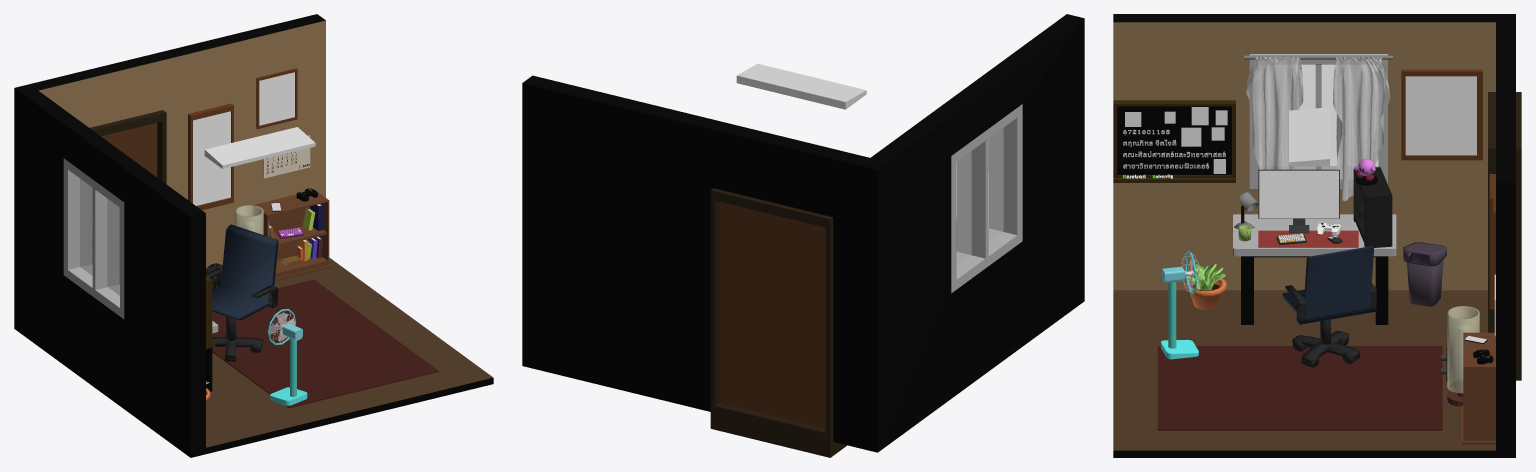
File: kutxt.glb
The picture shows the model from 3 angles, left to right: view 1: azimuth 30°, elevation 25°; view 2: azimuth 150°, elevation 25°; view 3: azimuth 270°, elevation 25°; orthographic projection. The views are drawn at different scales.
Visible parts, largest first — view 1: Cube.012, Plane.002, Cylinder, Cube.010, Plane.015, Cube.028, Plane.003, Cube.013, Plane.016, Torus.006, Cube.025, Cube.005 (+3 smaller); view 2: Cube.012, Cube.013, Plane.003, Cube.028; view 3: Cube.012, Plane.002, Cylinder.011, Cube.011, Cylinder, Plane.010, Cube.001, Plane.008, Cube.010, Cube.003, Cube.028, Cube.004 (+13 smaller).
Boxes of the visible parts, bbox=[...] form: Cube.012: bbox=[14, 14, 493, 457]; Plane.002: bbox=[212, 279, 438, 408]; Cylinder: bbox=[206, 224, 278, 361]; Cube.010: bbox=[253, 191, 331, 281]; Plane.015: bbox=[193, 111, 230, 205]; Cube.028: bbox=[204, 127, 315, 168]; Plane.003: bbox=[80, 179, 119, 295]; Cube.013: bbox=[92, 123, 157, 263]; Plane.016: bbox=[259, 72, 294, 125]; Torus.006: bbox=[267, 309, 307, 406]; Cube.025: bbox=[188, 103, 233, 210]; Cube.005: bbox=[263, 135, 310, 178]; Cube.012: bbox=[522, 14, 1084, 457]; Cube.013: bbox=[720, 202, 825, 428]; Plane.003: bbox=[956, 128, 1003, 264]; Cube.028: bbox=[736, 63, 866, 109]; Cube.012: bbox=[1113, 14, 1521, 457]; Plane.002: bbox=[1157, 346, 1442, 430]; Cylinder.011: bbox=[1246, 57, 1390, 201]; Cube.011: bbox=[1113, 100, 1235, 182]; Cylinder: bbox=[1282, 246, 1376, 367]; Plane.010: bbox=[1405, 76, 1476, 155]; Cube.001: bbox=[1233, 214, 1396, 324]; Plane.008: bbox=[1259, 170, 1338, 218]; Cube.010: bbox=[1461, 332, 1495, 444]; Cube.003: bbox=[1353, 167, 1392, 247]; Cube.028: bbox=[1289, 107, 1329, 166]; Cube.004: bbox=[1403, 242, 1446, 306].
Size of what is drawn, in the model's own units: 10 by 7.81 by 10.
